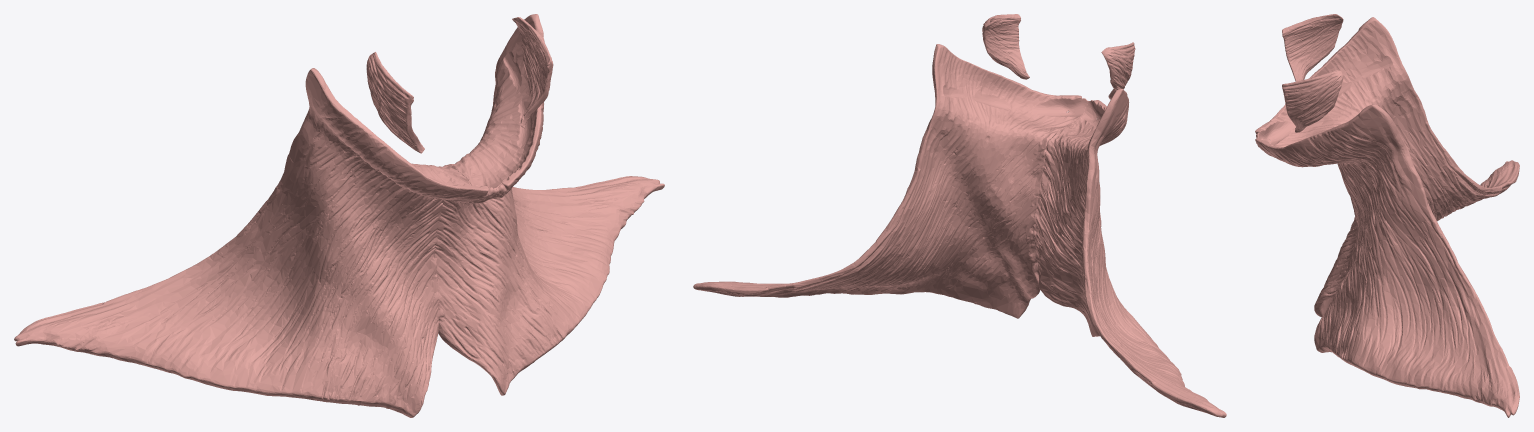
Rendered from muscle-extension-383.glb.
The picture shows the model from 3 angles, left to right: view 1: azimuth 30°, elevation 25°; view 2: azimuth 150°, elevation 25°; view 3: azimuth 270°, elevation 25°; orthographic projection. The views are drawn at different scales.
Visible parts, largest first — view 1: Right platysma, Left platysma, Right buccinator, Left buccinator; view 2: Left platysma, Right platysma, Left buccinator, Right buccinator; view 3: Left platysma, Right platysma, Right buccinator, Left buccinator.
Part boxes in pixels (<box>): Right platysma: <box>14,68,496,417</box>; Left platysma: <box>434,14,664,395</box>; Right buccinator: <box>366,52,424,153</box>; Left buccinator: <box>512,17,553,128</box>; Left platysma: <box>693,44,1088,318</box>; Right platysma: <box>1033,88,1226,417</box>; Left buccinator: <box>982,14,1029,79</box>; Right buccinator: <box>1101,42,1135,99</box>; Left platysma: <box>1255,104,1519,417</box>; Right platysma: <box>1255,17,1519,317</box>; Right buccinator: <box>1282,14,1343,81</box>; Left buccinator: <box>1282,70,1343,132</box>.
Size of the model in its own units: 2869 by 1544 by 1265.
